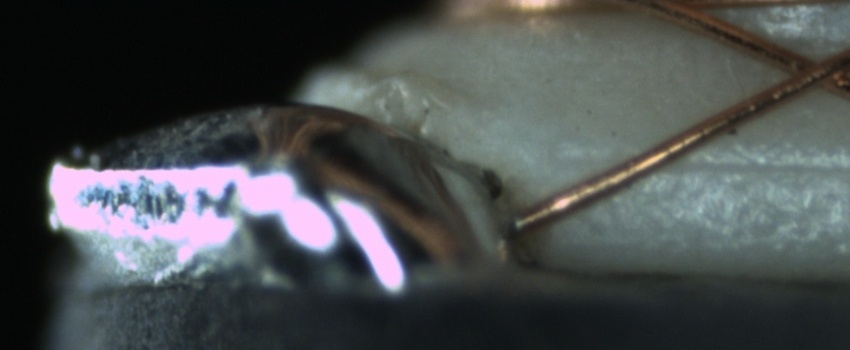CL: (769, 40, 847, 98)
DL: (561, 133, 846, 196)
